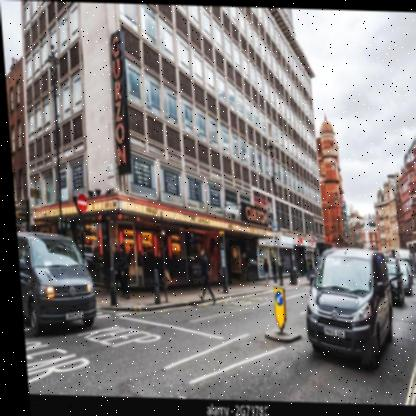Keep left: (268, 284, 278, 305)
